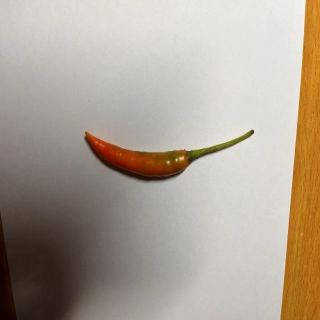Cabai Merah: (84, 129, 256, 179)
